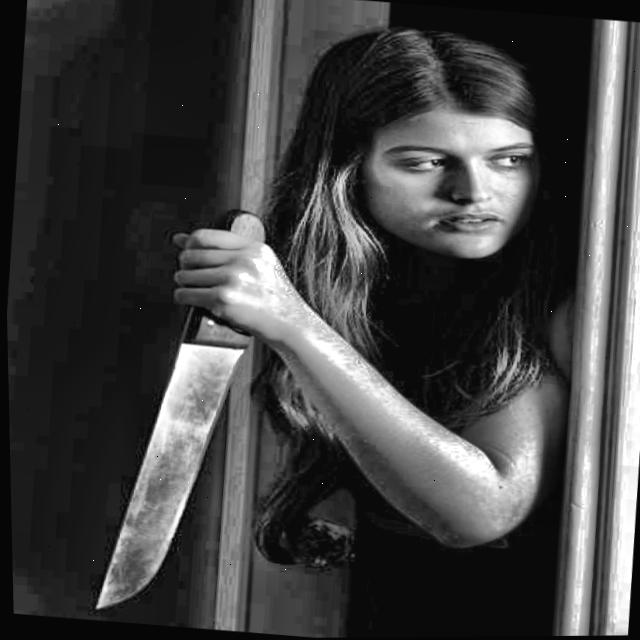pisau: (87, 201, 302, 618)
